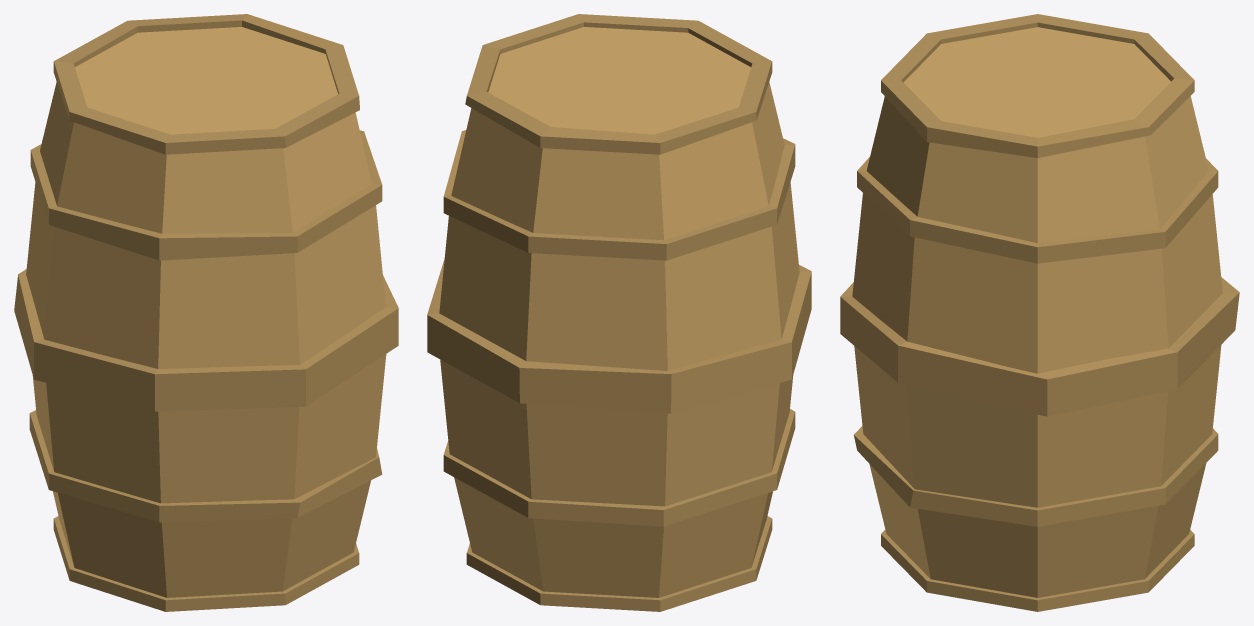
File: Wood_barrel.fbx
The picture shows the model from 3 angles, left to right: view 1: azimuth 30°, elevation 25°; view 2: azimuth 150°, elevation 25°; view 3: azimuth 270°, elevation 25°; orthographic projection.
Visible parts, largest first — view 1: Wood_barrel; view 2: Wood_barrel; view 3: Wood_barrel.
Part boxes in pixels (<box>): Wood_barrel: <box>14,14,398,611</box>; Wood_barrel: <box>427,14,811,611</box>; Wood_barrel: <box>840,14,1239,611</box>.
Bounding box in the file's own units: 91.52 × 120 × 93.12.
